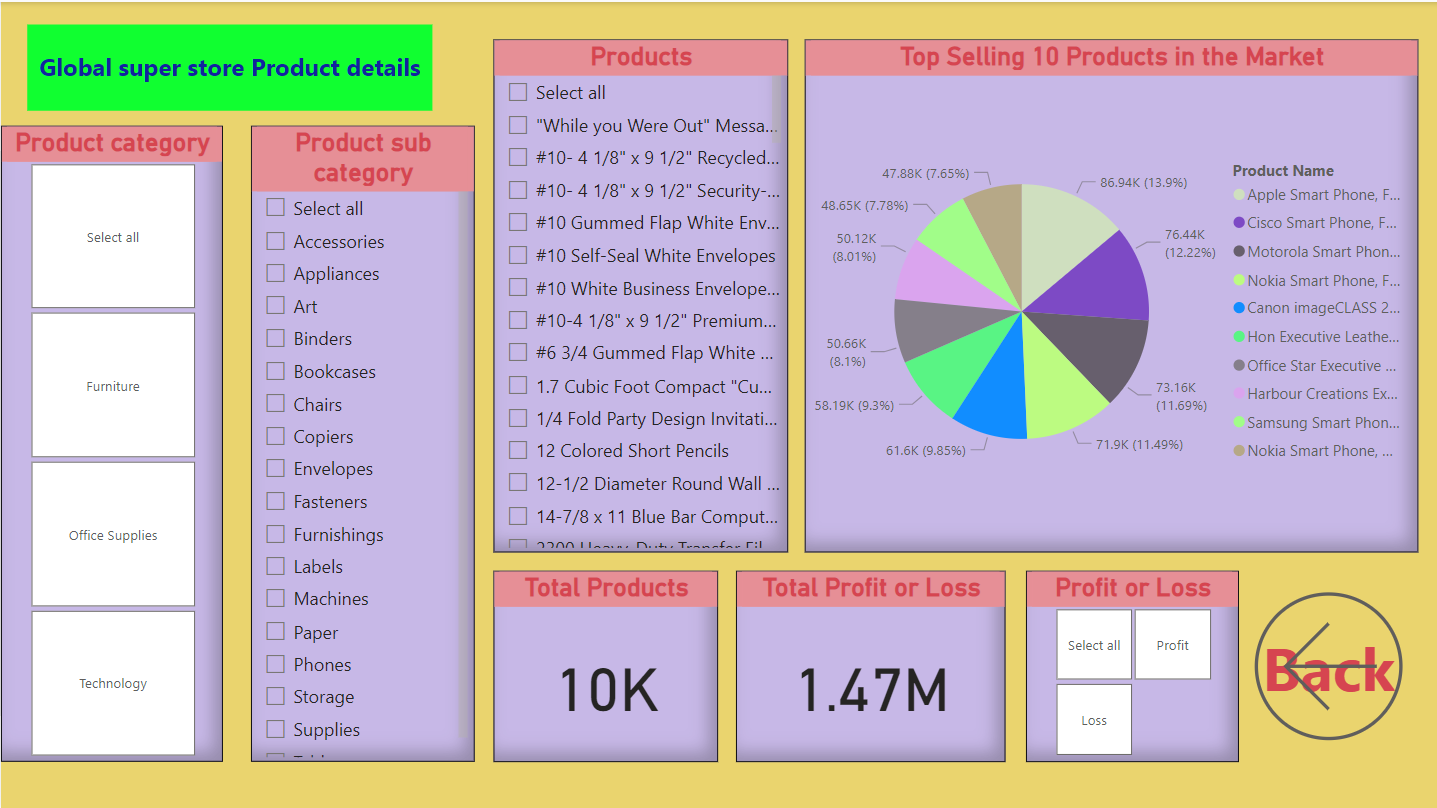

This screenshot's page, from the dashboard's own definition file:
{"tool":"powerbi","page":{"name":"Products","canvas":[1280,720],"ordinal":1},"visuals":[{"type":"card","title":"Total Products","fields":{"Values":["Global Superstore - Orders.Product count"]},"box":[439.1,506.3,200.3,170.2],"z":0},{"type":"slicer","title":"Product category","fields":{"Values":["Global Superstore - Orders.Category"]},"box":[0,109.8,197.6,566.7],"z":1},{"type":"slicer","title":"Product sub category","fields":{"Values":["Global Superstore - Orders.Sub-Category"]},"box":[222.3,109.8,199,566.7],"z":2},{"type":"card","title":"Total Profit or Loss","fields":{"Values":["Sum(Global Superstore - Orders.Profit)"]},"box":[654.5,506.3,240.1,170.2],"z":3},{"type":"pieChart","title":"Top Selling 10 Products in the Market","fields":{"Y":["Sum(Global Superstore - Orders.Sales)"],"Category":["Global Superstore - Orders.Product Name"]},"box":[716.3,32.9,546.1,456.9],"z":4},{"type":"actionButton","box":[1101.9,506.3,160.5,170.2],"z":5},{"type":"slicer","title":"Products","fields":{"Values":["Global Superstore - Orders.Product Name"]},"box":[439.1,32.9,262.1,456.9],"z":6},{"type":"slicer","title":"Profit or Loss","fields":{"Values":["Global Superstore - Orders.Profit or Loss"]},"box":[912.5,506.3,189.4,170.2],"z":7},{"type":"textbox","box":[23.3,20.6,360.9,76.8],"z":8}]}

Visuals, with their boxes in screenshot pixels (x1, y1, x2, y2), scaled from the page's 1280x720 canvas onto the 1437x808 screenshot:
"Total Products" card: (493,568,718,759)
"Product category" slicer: (0,123,222,759)
"Product sub category" slicer: (250,123,473,759)
"Total Profit or Loss" card: (735,568,1004,759)
"Top Selling 10 Products in the Market" pieChart: (804,37,1417,550)
actionButton: (1237,568,1417,759)
"Products" slicer: (493,37,787,550)
"Profit or Loss" slicer: (1024,568,1237,759)
textbox: (26,23,431,109)
